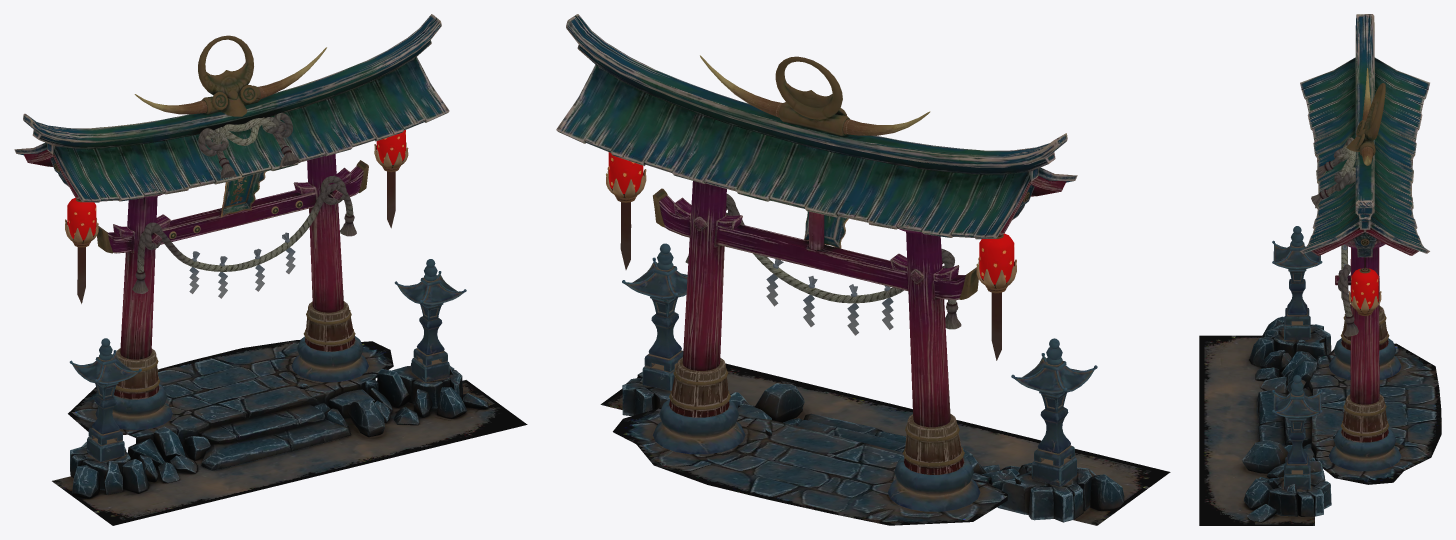
The model's file is prop-torii-gate.glb.
3 renders of one model, left to right at view 1: azimuth 30°, elevation 25°; view 2: azimuth 150°, elevation 25°; view 3: azimuth 270°, elevation 25°, orthographic. The views are drawn at different scales.
Parts seen in each view (by area): view 1: Object001_01 - Default_0, Object084_02 - Default_0; view 2: Object001_01 - Default_0, Object084_02 - Default_0; view 3: Object001_01 - Default_0, Object084_02 - Default_0.
Boxes of the visible parts, left/top/right/bottom form: Object001_01 - Default_0: left=14, top=14, right=466, bottom=461; Object084_02 - Default_0: left=52, top=340, right=527, bottom=525; Object001_01 - Default_0: left=556, top=14, right=1097, bottom=511; Object084_02 - Default_0: left=600, top=363, right=1170, bottom=525; Object001_01 - Default_0: left=1272, top=14, right=1429, bottom=489; Object084_02 - Default_0: left=1199, top=316, right=1441, bottom=525.
Bounding box in the file's own units: 161 × 136 × 86.57.
Materials: 2 (2 with a texture image).
